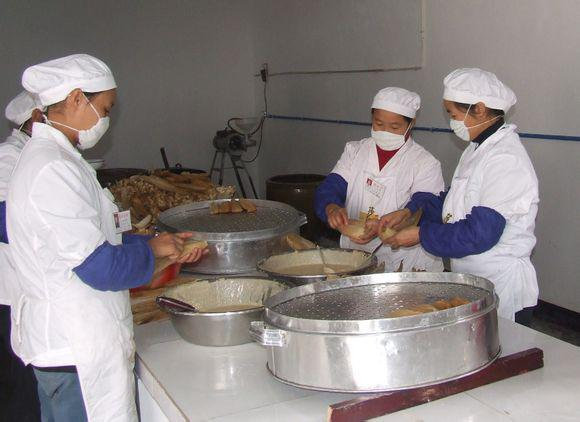OK: (65, 92, 116, 147), (370, 117, 409, 152), (452, 104, 485, 143)
